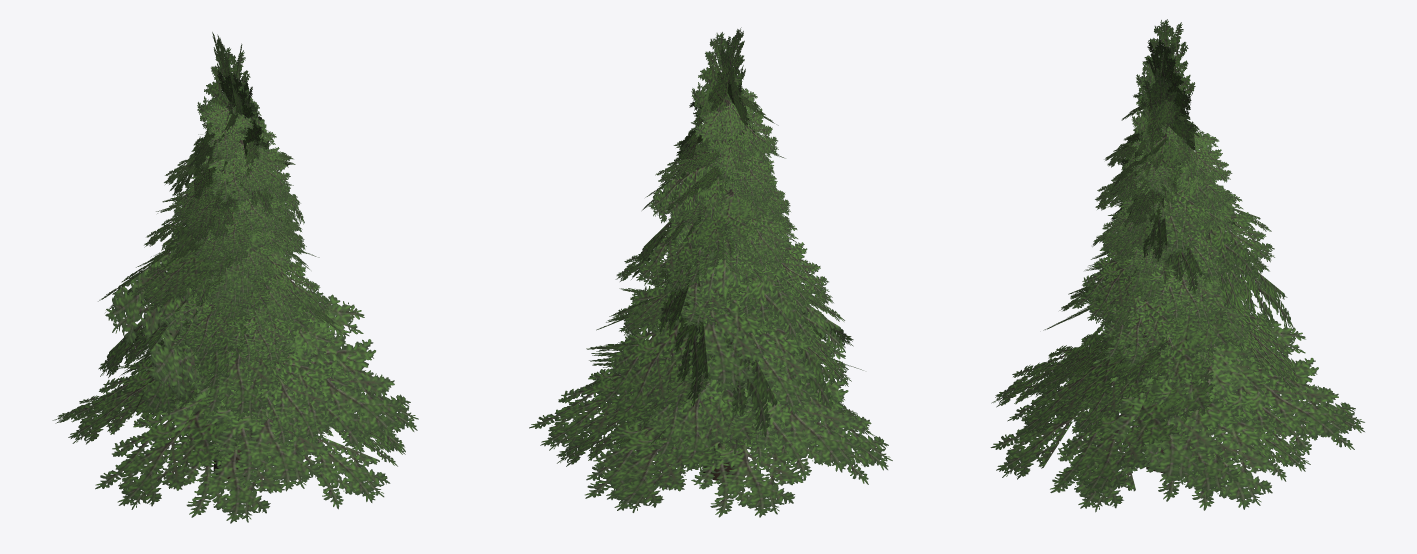
The model's file is Tree_07_Mid.fbx.
3 views of the same model, side by side, from view 1: azimuth 30°, elevation 25°; view 2: azimuth 150°, elevation 25°; view 3: azimuth 270°, elevation 25° (orthographic). The views are drawn at different scales.
Visible parts, largest first — view 1: polySurface2; view 2: polySurface2; view 3: polySurface2.
Boxes of the visible parts, x1,y1,x2,y2 form: polySurface2: (52,32,418,523); polySurface2: (529,27,892,517); polySurface2: (990,19,1364,512).
Bounding box in the file's own units: 5.77 × 6.55 × 5.94.
1 material, 1 textured.
